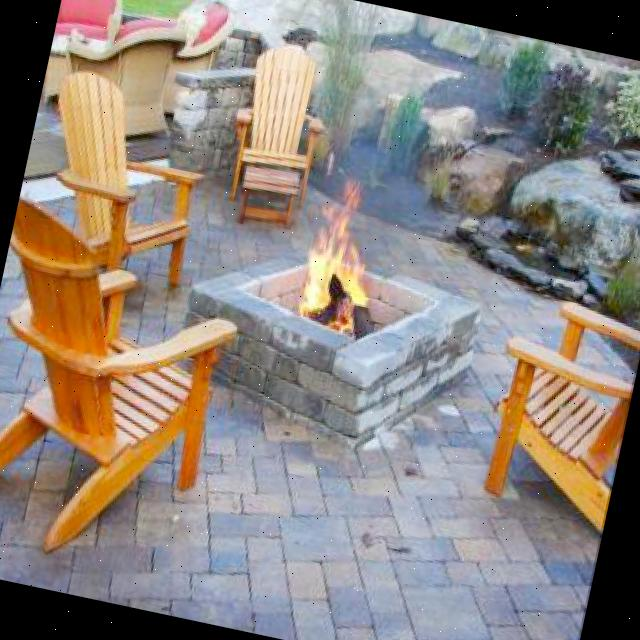fire: (300, 204, 380, 328)
